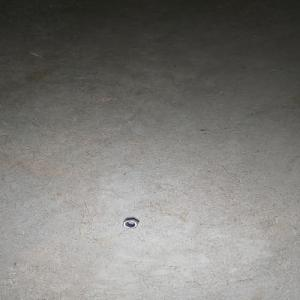Nut: (121, 219, 139, 230)
